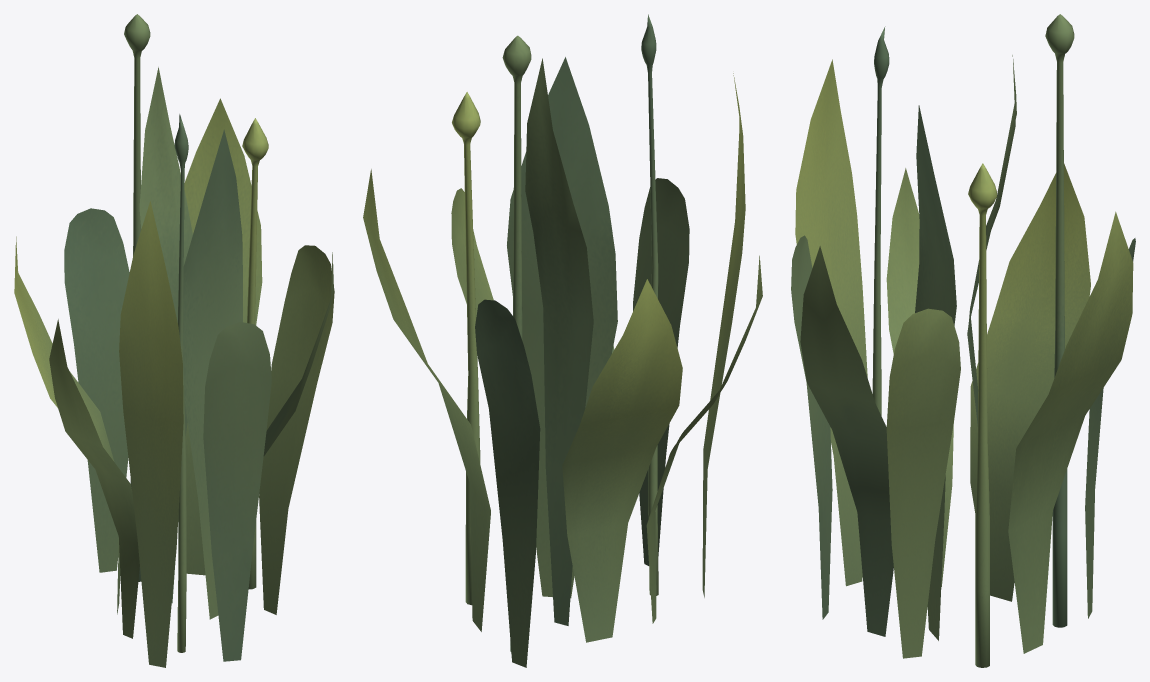
The model's file is grass1.fbx.
The picture shows the model from 3 angles, left to right: view 1: azimuth 30°, elevation 25°; view 2: azimuth 150°, elevation 25°; view 3: azimuth 270°, elevation 25°; orthographic projection. The views are drawn at different scales.
Visible parts, largest first — view 1: CLUMP; view 2: CLUMP; view 3: CLUMP.
Part boxes in pixels (x1,y1,x2,y2): CLUMP: (14, 14, 334, 667); CLUMP: (363, 14, 762, 667); CLUMP: (791, 14, 1135, 667).
Bounding box in the file's own units: 47.78 × 92.13 × 47.15.
